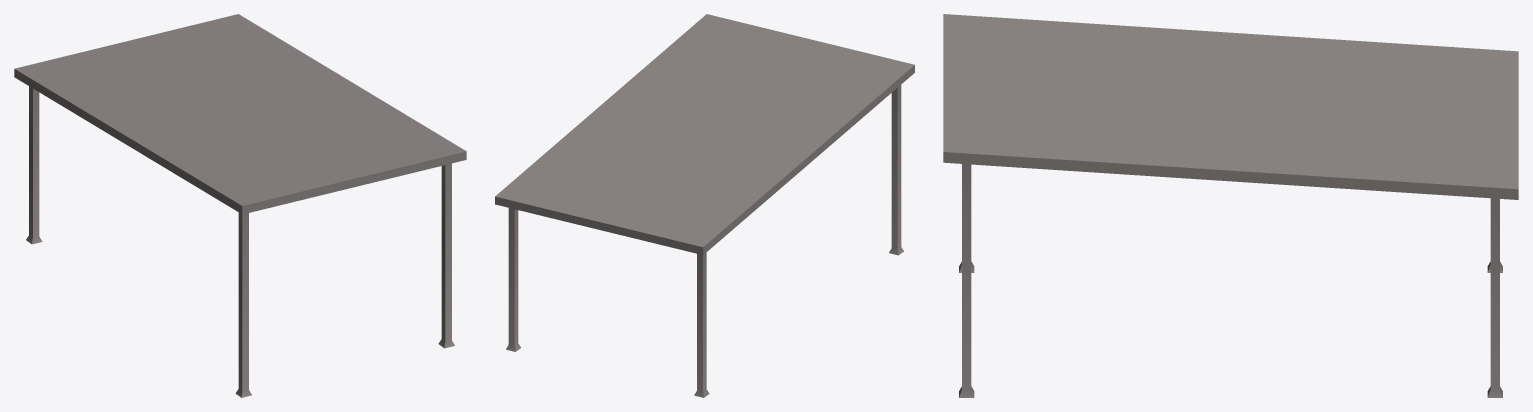
File: SM_Roofing_006.fbx
3 renders of one model, left to right at view 1: azimuth 30°, elevation 25°; view 2: azimuth 150°, elevation 25°; view 3: azimuth 270°, elevation 25°, orthographic. The views are drawn at different scales.
Visible parts, largest first — view 1: SM_Roofing_006; view 2: SM_Roofing_006; view 3: SM_Roofing_006.
Boxes of the visible parts, x1,y1,x2,y2 form: SM_Roofing_006: (14, 14, 466, 397); SM_Roofing_006: (495, 14, 914, 397); SM_Roofing_006: (943, 14, 1518, 397).
Size of the model in its own units: 420 by 354 by 740.
